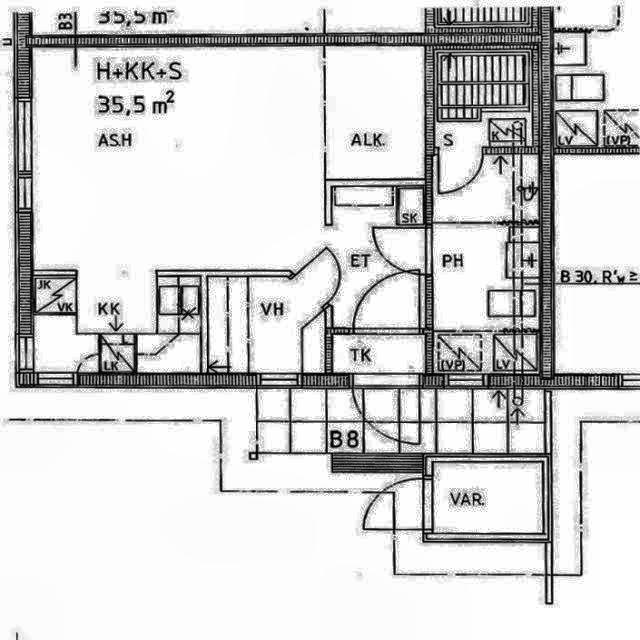room: (433, 154, 539, 374), (208, 276, 325, 373), (434, 50, 533, 147), (433, 463, 543, 533), (332, 334, 426, 373)
